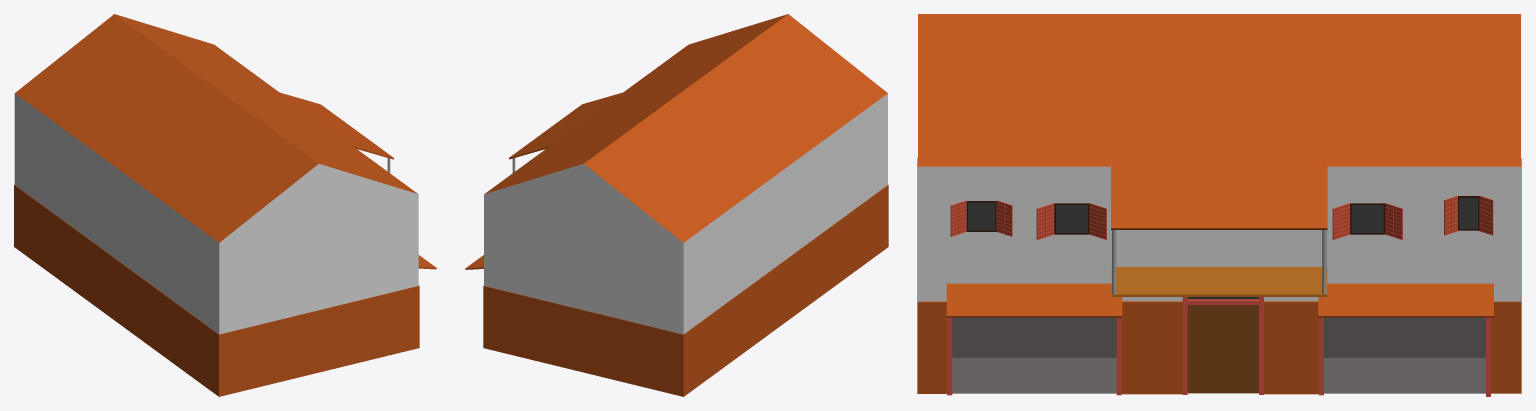
The model's file is Roman5.fbx.
3 renders of one model, left to right at view 1: azimuth 30°, elevation 25°; view 2: azimuth 150°, elevation 25°; view 3: azimuth 270°, elevation 25°, orthographic. The views are drawn at different scales.
Parts seen in each view (by area): view 1: Cube, Cube.024, Cube.007; view 2: Cube, Cube.024, Cube.007; view 3: Cube, Cube.007, Cube.008, Cube.001, Cube.002, Cube.024, Cube.025, Cube.027, Cube.019, Cube.018, Cube.021, Cube.020 (+8 smaller).
Boxes of the visible parts, x1,y1,x2,y2 form: Cube: (14, 14, 418, 334); Cube.024: (14, 184, 419, 396); Cube.007: (278, 92, 393, 159); Cube: (484, 14, 887, 334); Cube.024: (483, 184, 888, 396); Cube.007: (509, 92, 624, 159); Cube: (918, 14, 1520, 393); Cube.007: (1111, 163, 1327, 229); Cube.008: (1111, 267, 1327, 296); Cube.001: (946, 283, 1122, 317); Cube.002: (1318, 283, 1493, 317); Cube.024: (917, 158, 1521, 393); Cube.025: (1121, 301, 1182, 394); Cube.027: (1264, 301, 1318, 394); Cube.019: (1054, 203, 1089, 234); Cube.018: (1350, 203, 1385, 234); Cube.021: (1182, 297, 1259, 394); Cube.020: (966, 201, 996, 231).
Size of the model in its own units: 679 by 566 by 1001.
